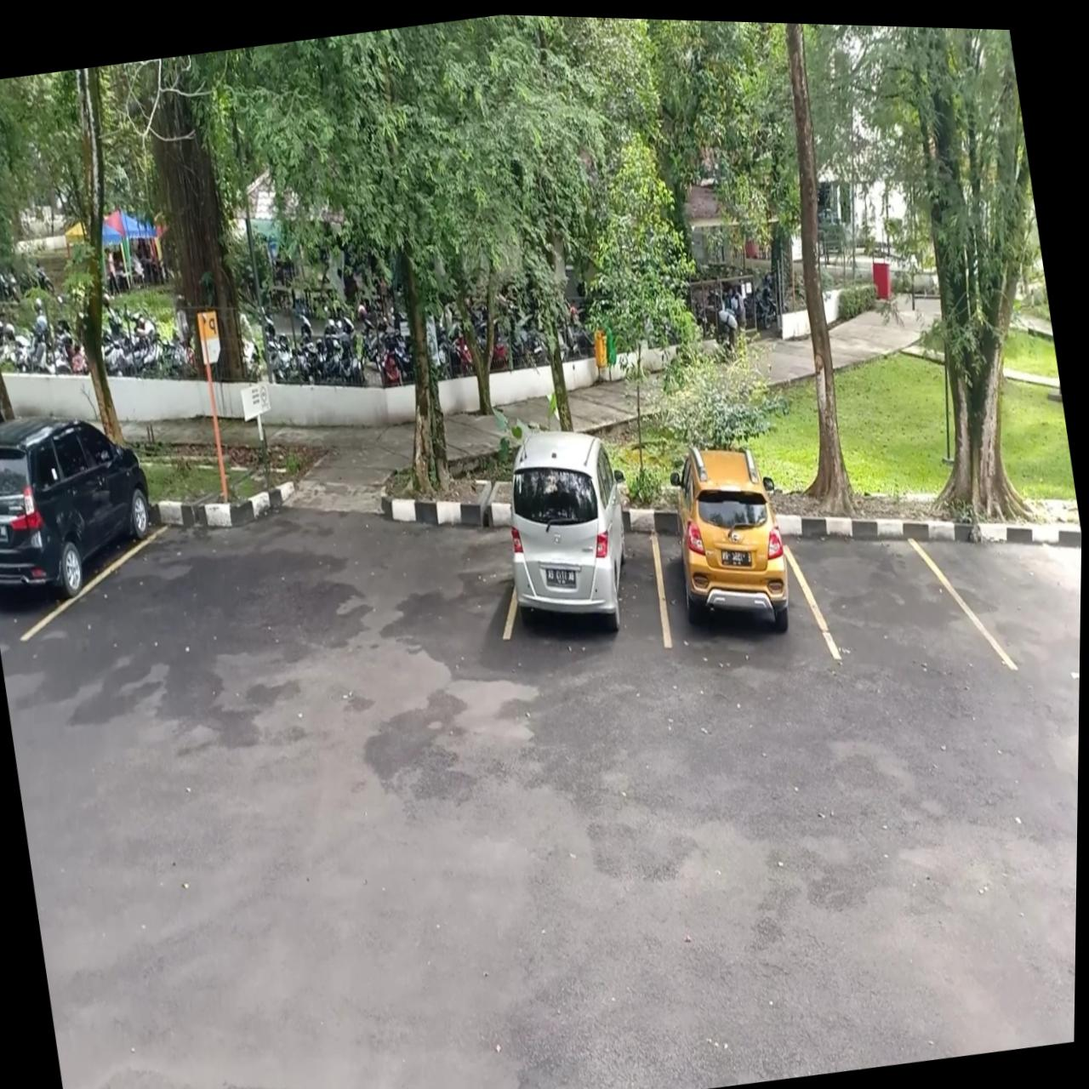cars: (653, 537, 836, 656), (506, 527, 667, 645)
empty: (783, 539, 1015, 671)
